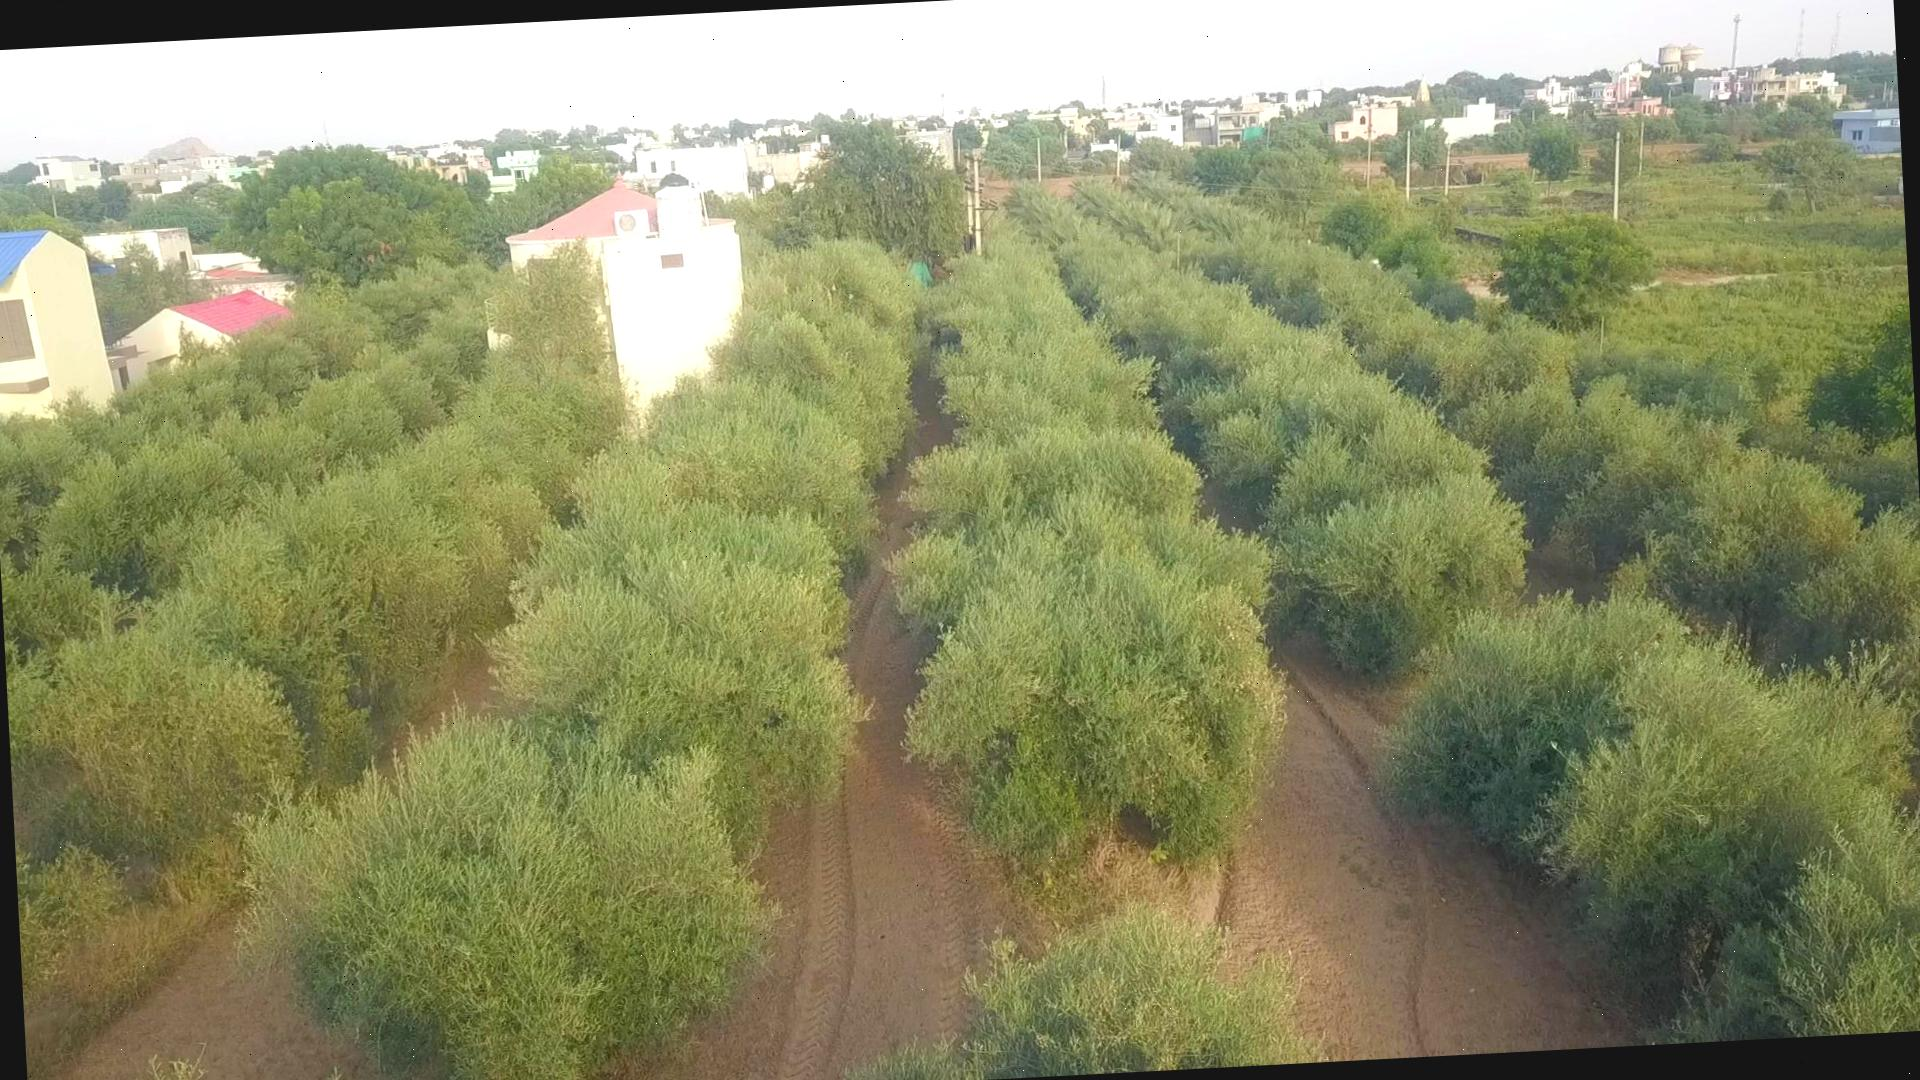canopy: (253, 240, 918, 1080), (0, 251, 628, 994), (1076, 187, 1920, 665), (895, 240, 1276, 885), (1385, 591, 1920, 1043), (1025, 199, 1526, 675)
road: (630, 566, 1010, 1080), (1225, 658, 1627, 1060), (57, 930, 375, 1080)
